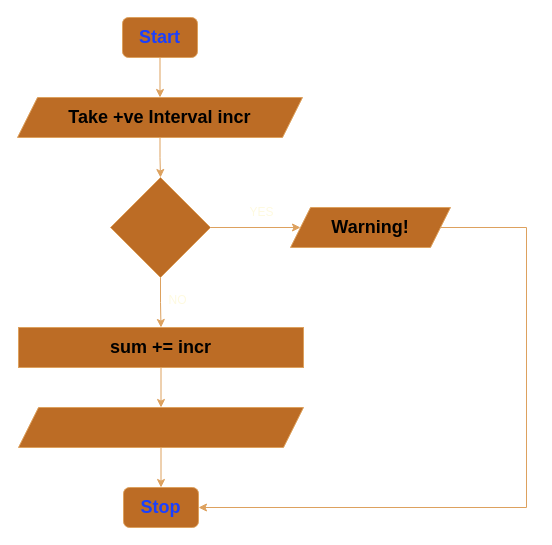
This 552x545 diagram has some shape labels left out. The shapes that lost their labels are listed below. From the top down, each one's box as (x1, y1, x2, y2) in pixels, then its label:
(110, 176, 210, 278): incr > 1
(18, 406, 304, 448): Print sum
